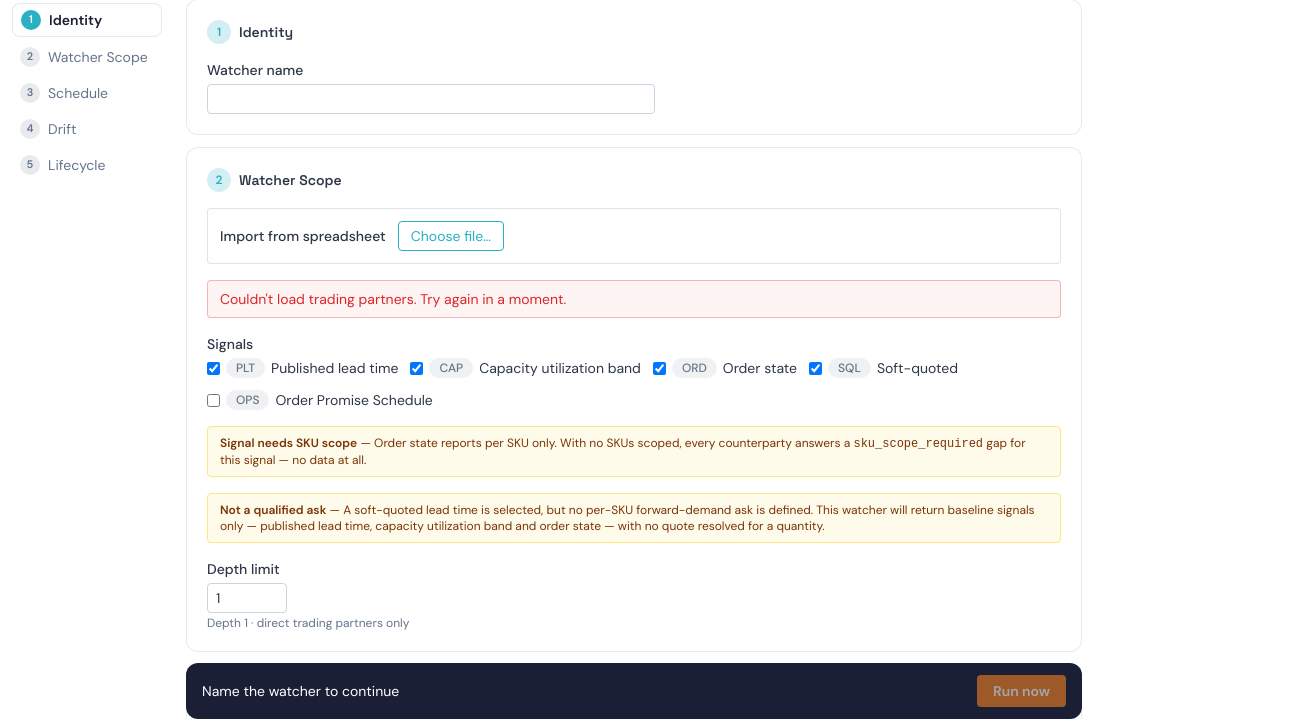
Scenario: <WatcherWizard> › submit bar summarises the signals and cadence that will be created
Type "My Watcher" into the field labelled "Watcher name" at (431, 99), box [207,84,655,114]
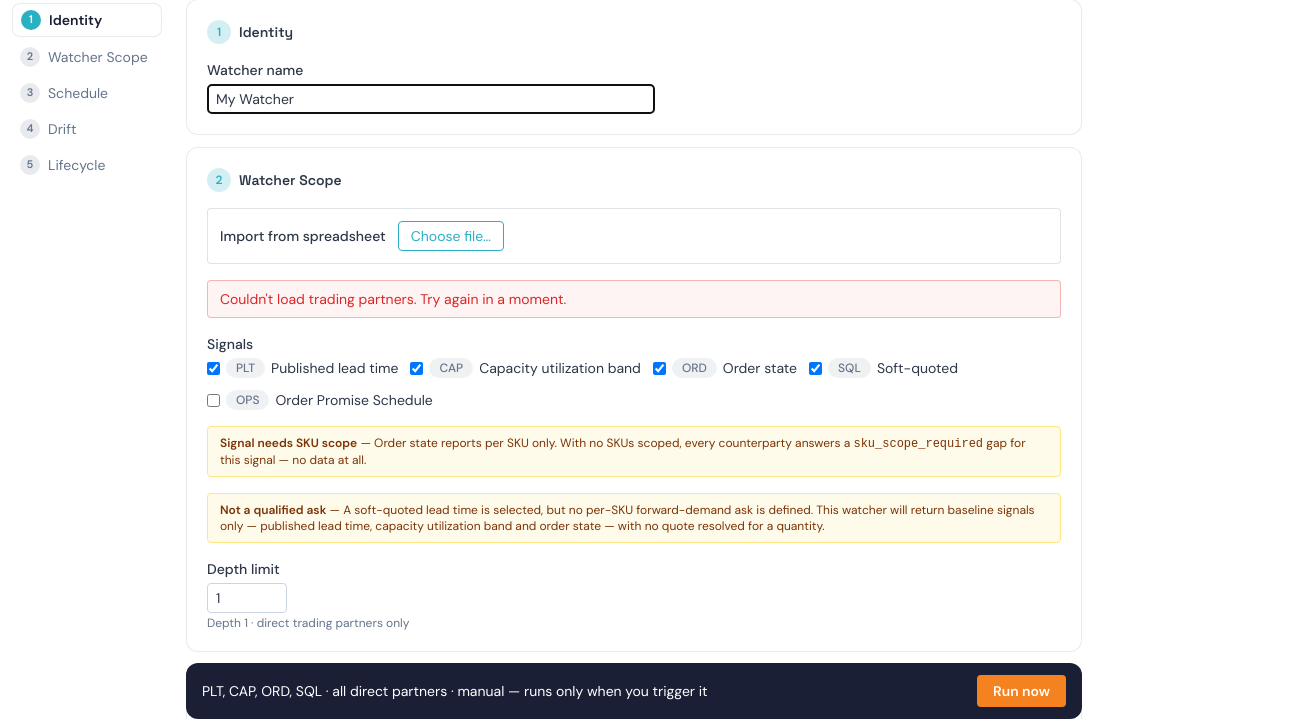
Expected: the text with test id "submit-summary" does not show "Ready", [202,681,708,701]
Expected: the text with test id "submit-summary" shows "PLT, CAP, ORD, SQL", [202,682,708,700]
Expected: the text with test id "submit-summary" shows "manual", [202,682,708,700]
Note: Ticking OPS shows up immediately in the summary…
Click the checkbox labelled "OPS" at (214, 400), box [207,394,220,406]
(page scrolled)
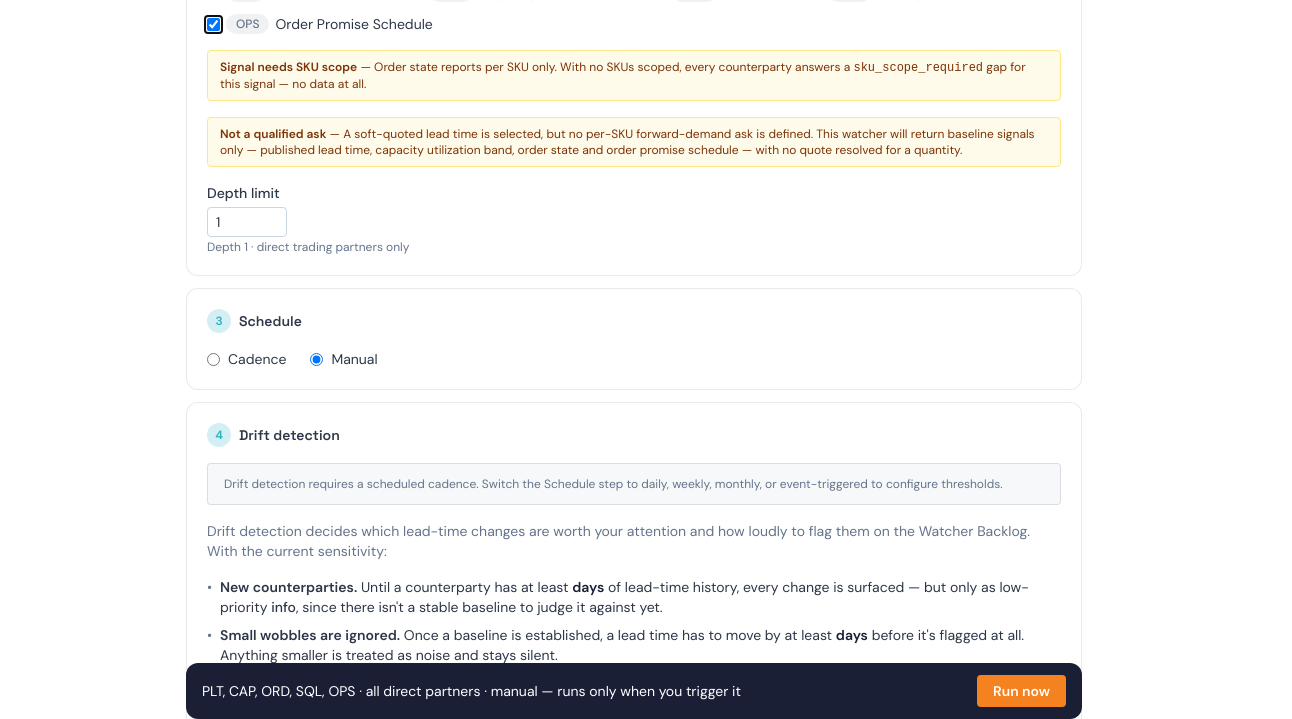
Expected: the text with test id "submit-summary" shows "OPS", [202,682,741,700]
Note: …and switching to a daily cadence replaces the manual wording.
Click the radio button labelled "Cadence" at (214, 359), box [207,352,220,366]
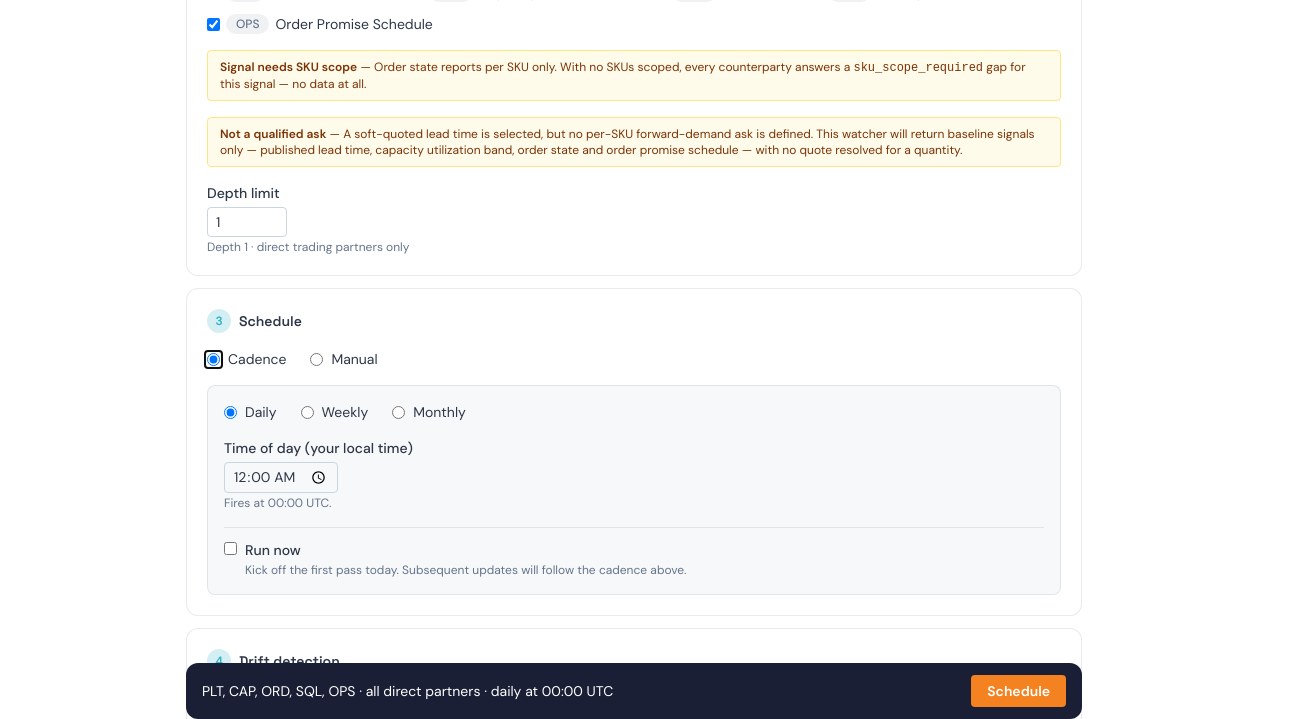
Expected: the text with test id "submit-summary" does not show "manual", [202,681,613,701]
Expected: the text with test id "submit-summary" reads "PLT, CAP, ORD, SQL, OPS · all direct partners · daily at 00:00 UTC", [202,682,613,700]
